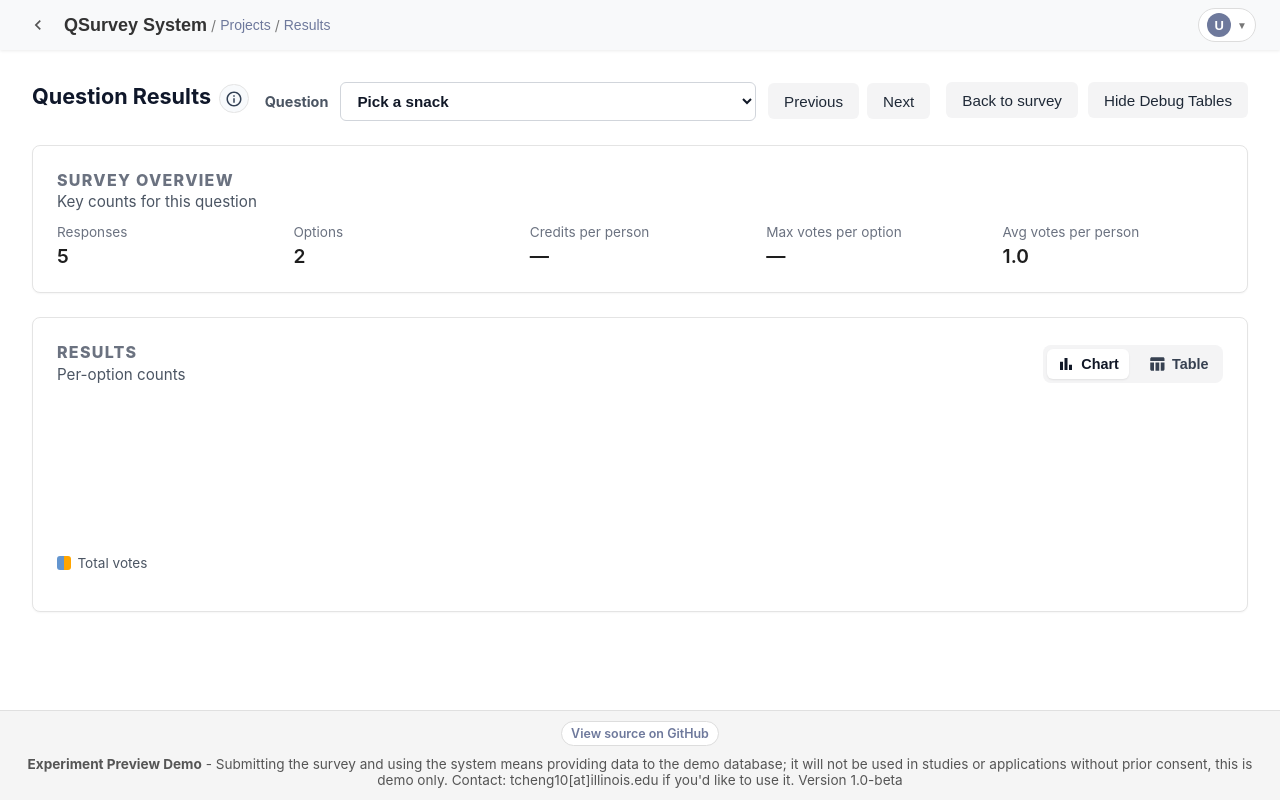
SurveyResultsPage › shows selection counts with respondent percentages
Expected: the text "Per-option counts" is shown, 57,364 -> 186,385
Click the button with aria-label "table view": (1178, 364) 1137,349 -> 1219,378
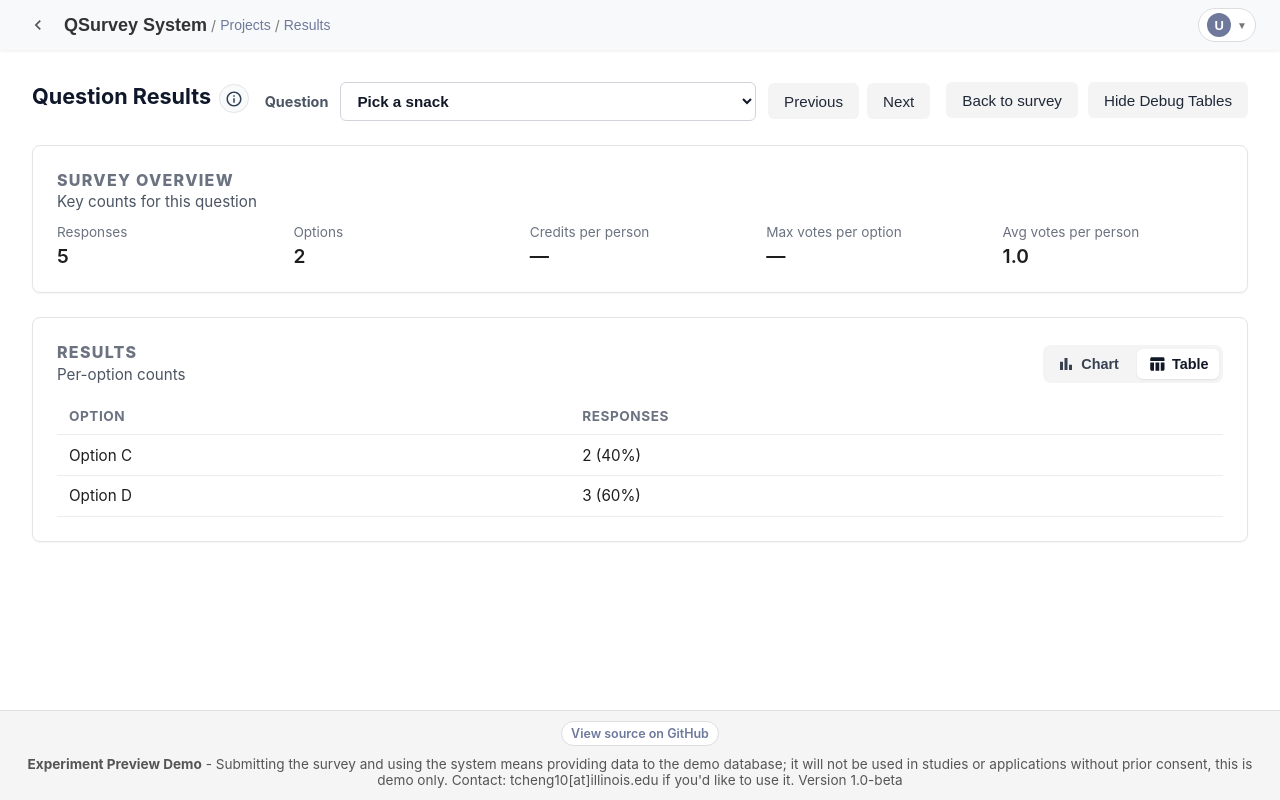
Now the text "Option C" is shown, box 57,435 -> 570,475
Now the text "2 (40%)" is shown, box 570,435 -> 1223,475
Now the text "3 (60%)" is shown, box 570,475 -> 1223,516
